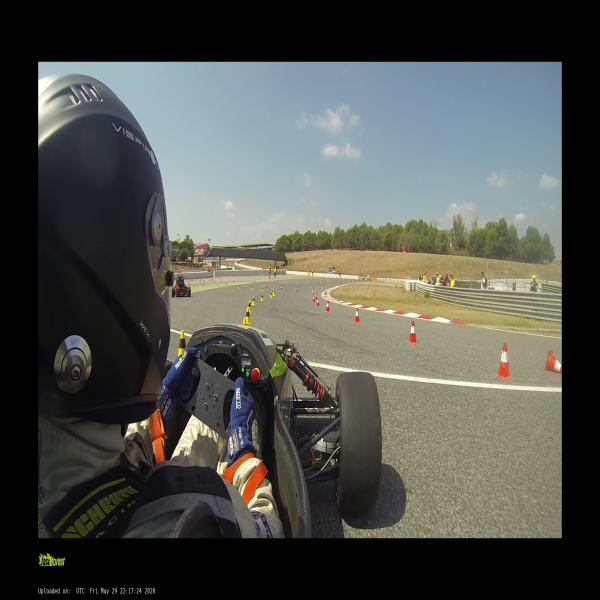orange_cone: (496, 342, 511, 378), (544, 350, 562, 375), (408, 321, 416, 343), (354, 308, 360, 322), (326, 301, 329, 311), (317, 298, 319, 306), (313, 295, 315, 301), (315, 294, 317, 299), (295, 288, 297, 292), (312, 290, 314, 294), (281, 285, 282, 290), (265, 284, 266, 288)
yellow_cone: (178, 331, 186, 355), (245, 307, 251, 324), (247, 299, 251, 312), (260, 293, 264, 301), (252, 296, 255, 305), (270, 291, 272, 298), (261, 287, 263, 292), (238, 284, 240, 289), (251, 286, 253, 290), (195, 284, 197, 288), (273, 288, 274, 294), (274, 290, 275, 296), (217, 284, 218, 288)
